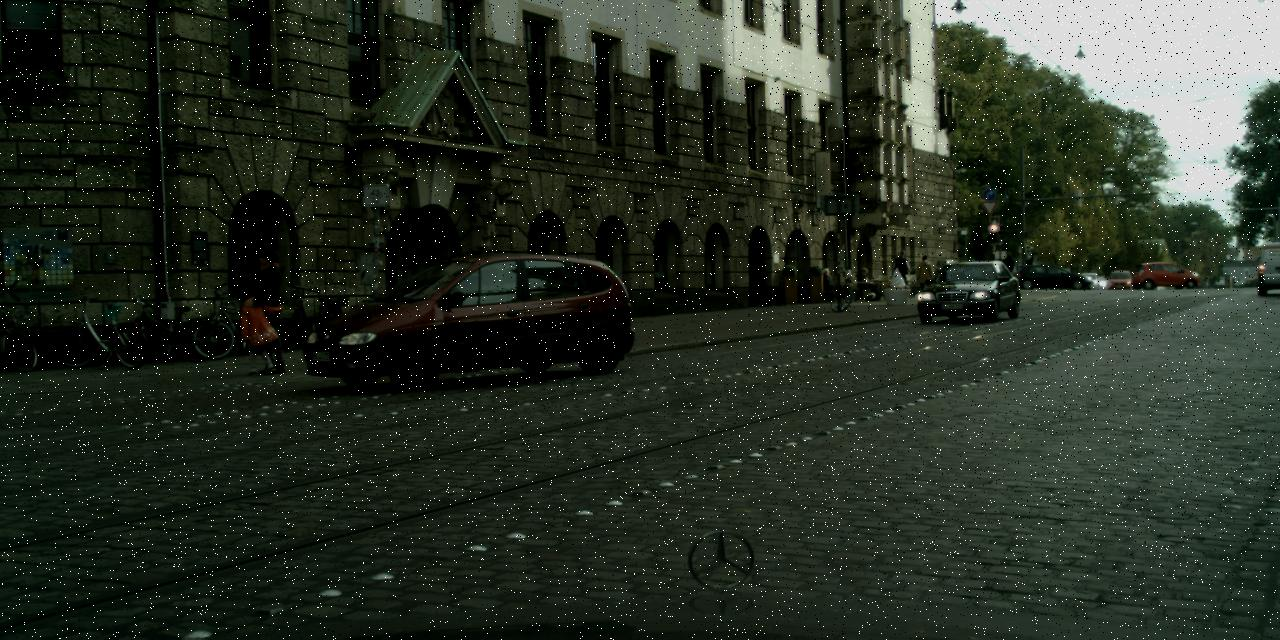ped: (245, 245, 297, 374), (236, 294, 268, 374), (915, 254, 934, 302), (891, 250, 910, 298)
